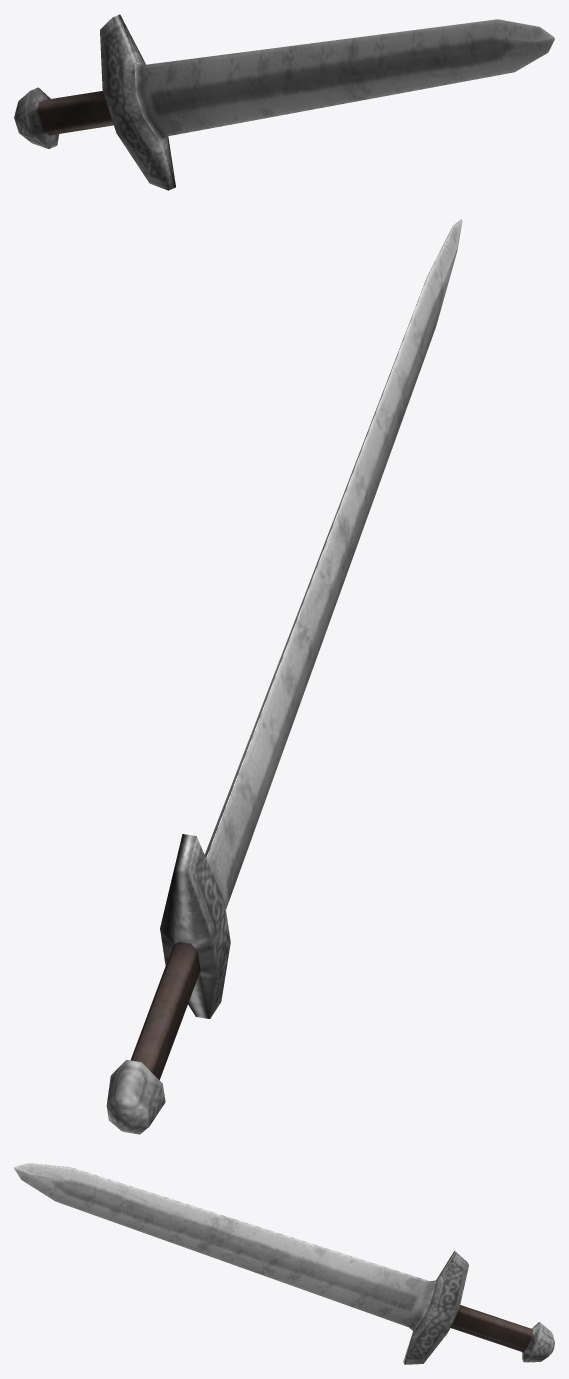
File: weapon-bronzeweapons.glb
3 views of the same model, one above another, from view 1: azimuth 30°, elevation 25°; view 2: azimuth 150°, elevation 25°; view 3: azimuth 270°, elevation 25° (orthographic). The views are drawn at different scales.
Size of the model in its own units: 0.222 by 0.4718 by 0.9492.
1 material, 1 textured.
